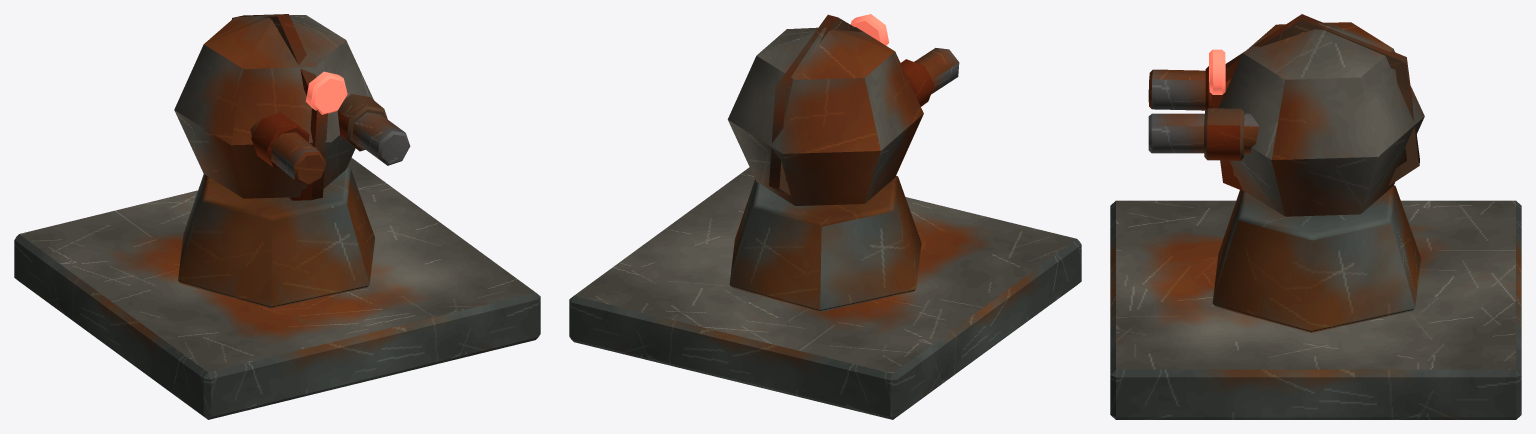
The model's file is R4X_PointDefense_LOD1.glb.
3 renders of one model, left to right at view 1: azimuth 30°, elevation 25°; view 2: azimuth 150°, elevation 25°; view 3: azimuth 270°, elevation 25°, orthographic. The views are drawn at different scales.
Visible parts, largest first — view 1: R4X_PointDefense_LOD1; view 2: R4X_PointDefense_LOD1; view 3: R4X_PointDefense_LOD1.
Boxes of the visible parts, left/top/right/bottom form: R4X_PointDefense_LOD1: left=14, top=14, right=540, bottom=419; R4X_PointDefense_LOD1: left=569, top=14, right=1081, bottom=419; R4X_PointDefense_LOD1: left=1110, top=14, right=1521, bottom=419.
Bounding box in the file's own units: 0.52 × 0.4435 × 0.52.
Materials: 5 (4 with a texture image).
